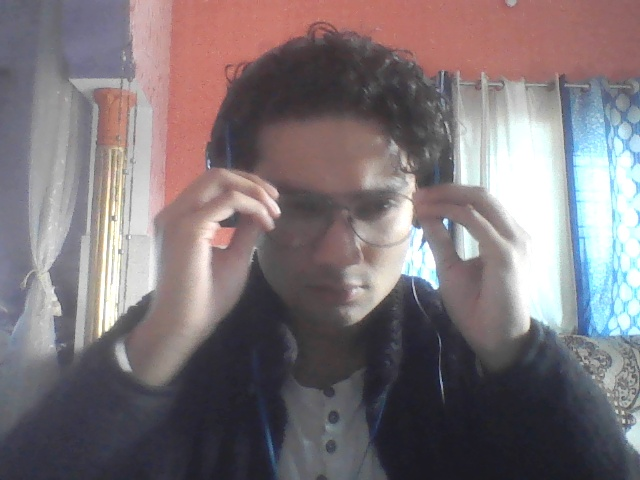real: (232, 51, 436, 340)
